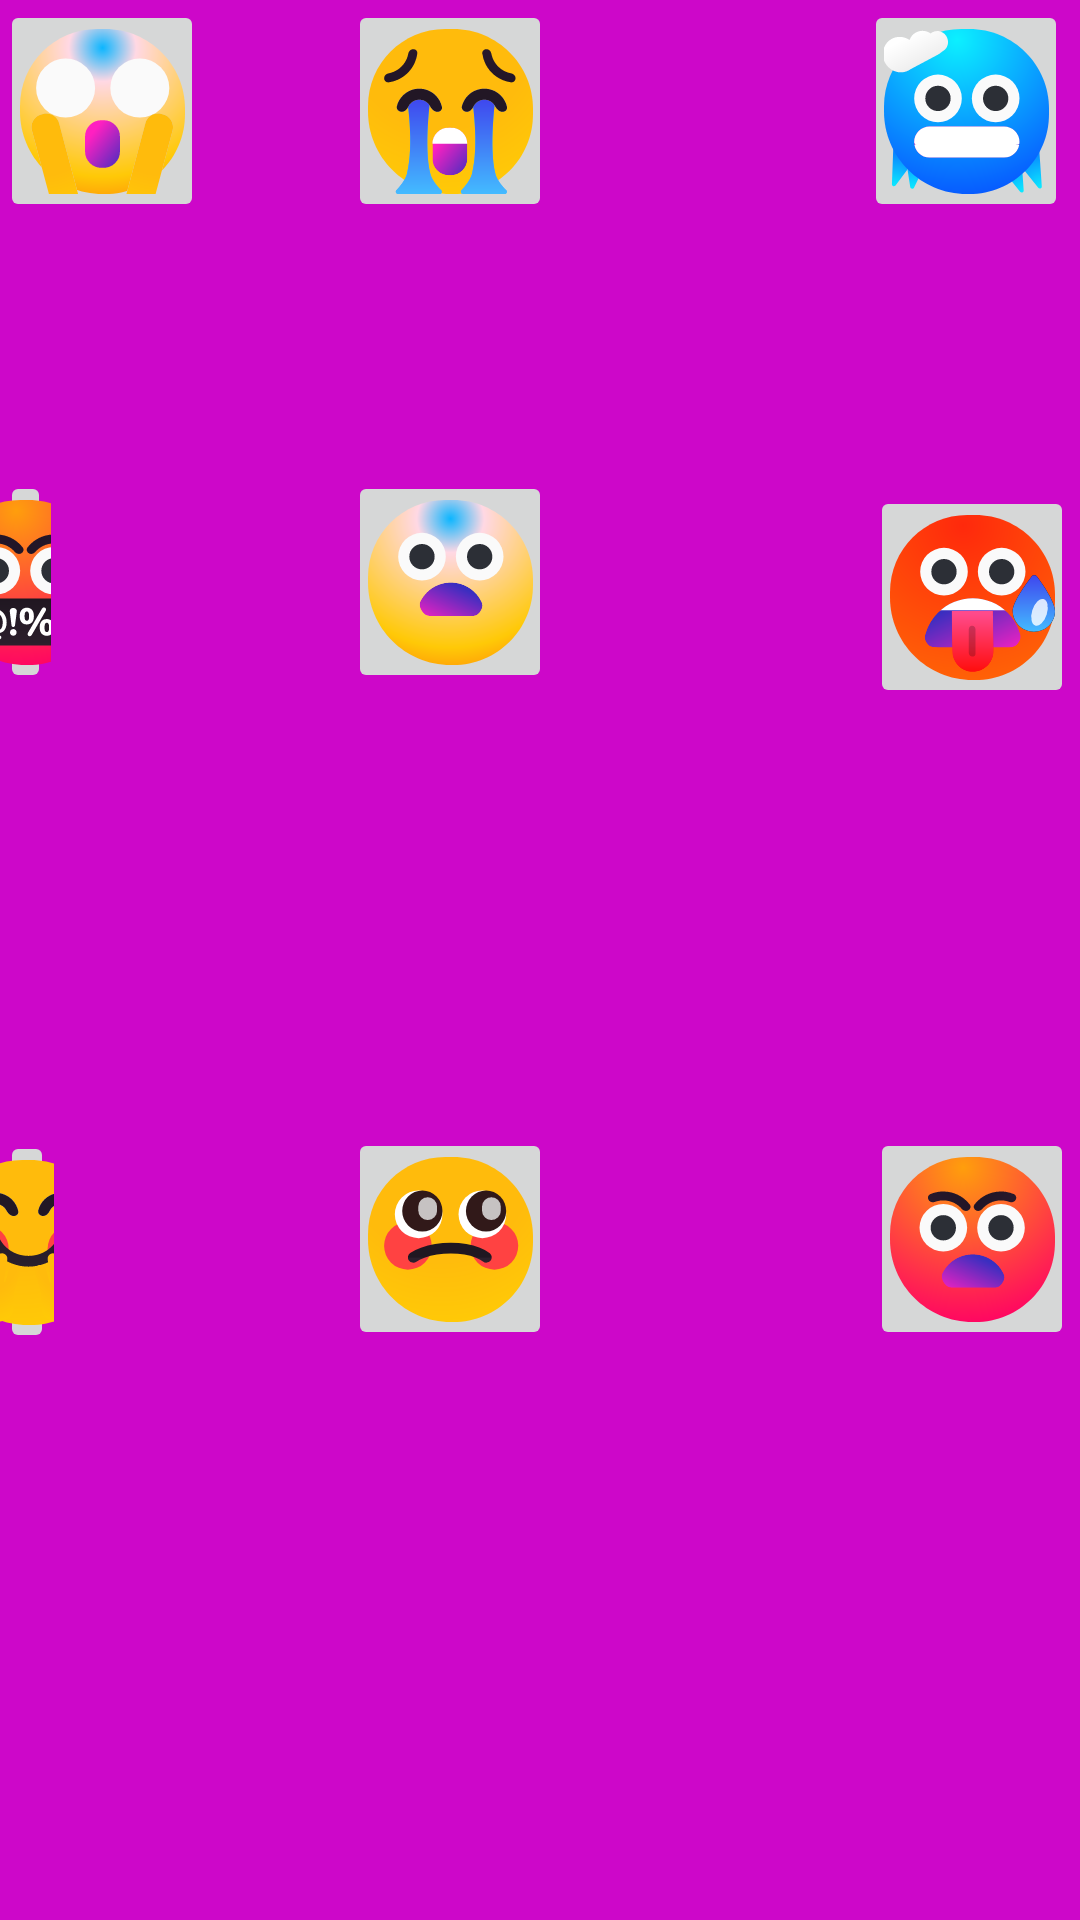

Screen size 1080x1920. Icon name, then its center in pixels as [x,y]:
cold face: [966,111]
crying face: [450,111]
face screaming in fear: [102,111]
fearful face: [450,582]
hot face: [972,597]
pleading face: [450,1239]
pouting face: [972,1239]
